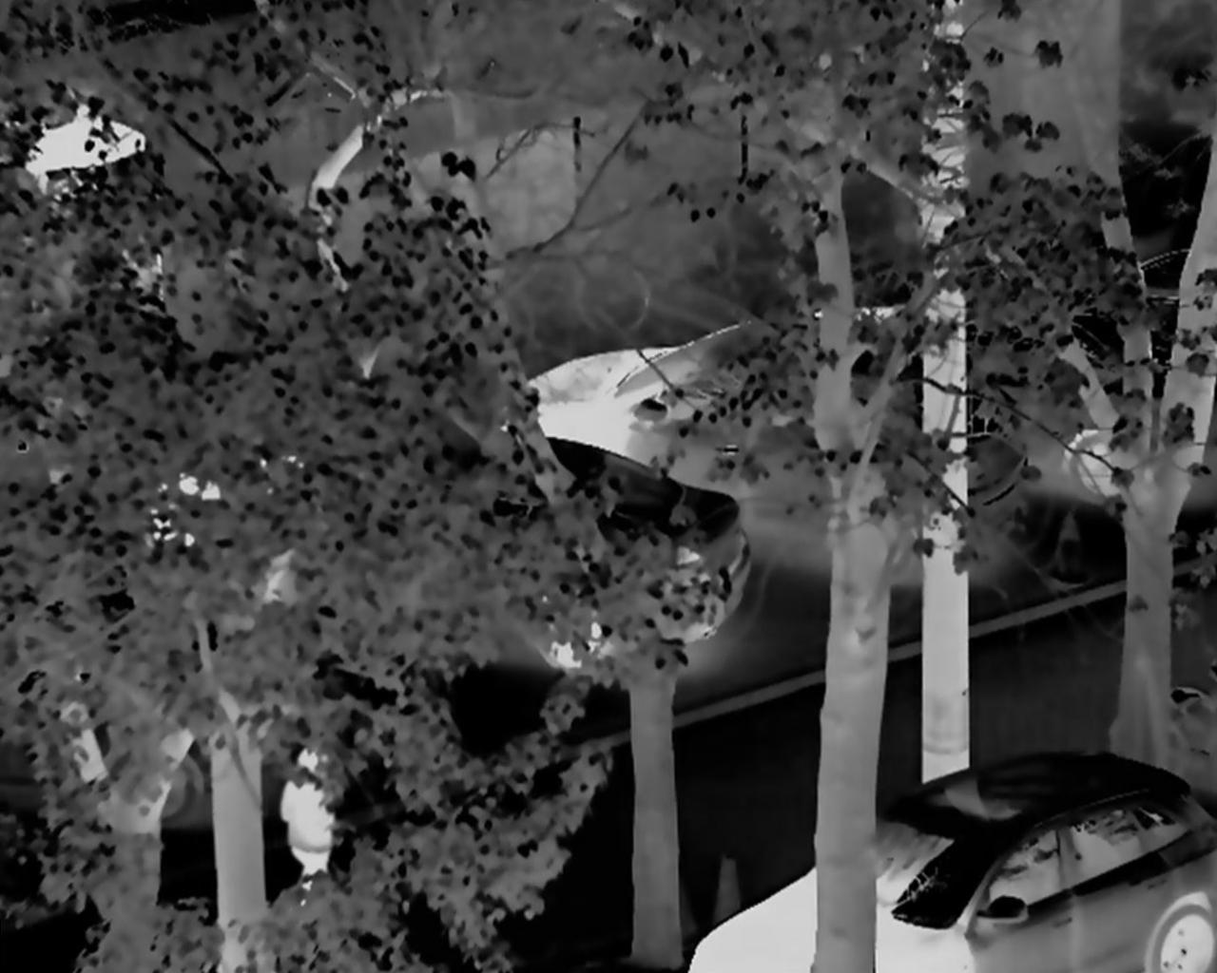person: (276, 735, 338, 911)
